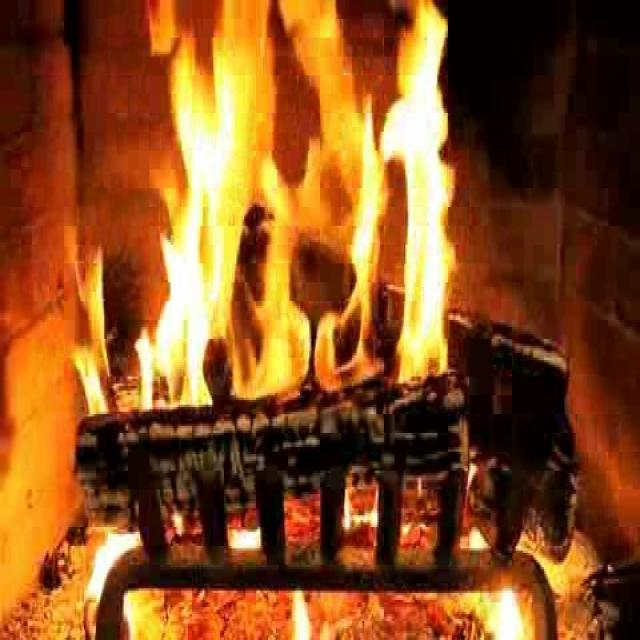Fire: (144, 0, 470, 399)
